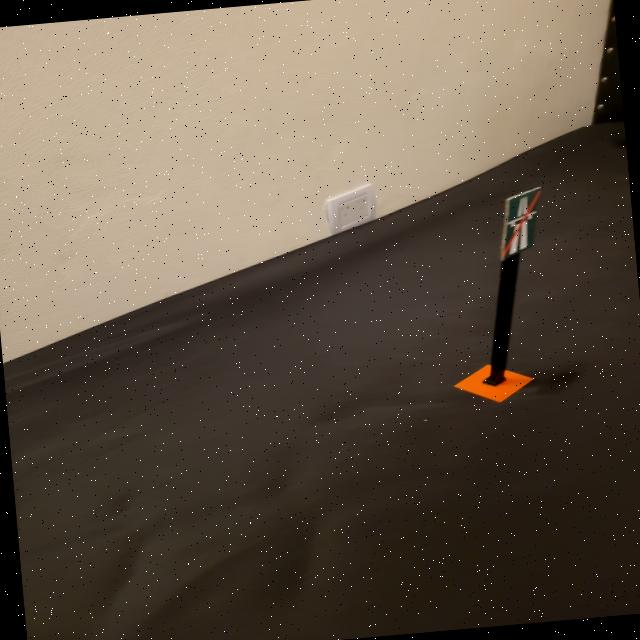highway_exit: (492, 186, 548, 264)
